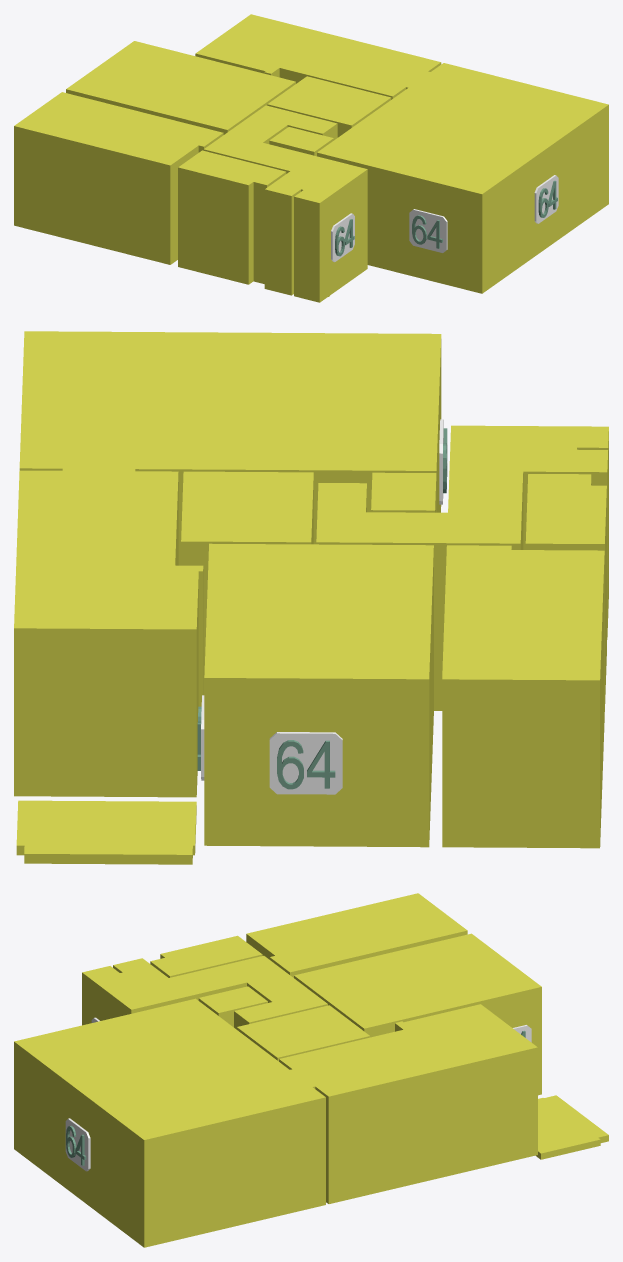
3 views of the same model, one above another, from view 1: azimuth 30°, elevation 25°; view 2: azimuth 150°, elevation 25°; view 3: azimuth 270°, elevation 25° (orthographic). The views are drawn at different scales.
Visible parts, largest first — view 1: g_7, g_1, g_3, g_0, g_2, g_6, g_4, g_5, g_11, g_17, g_23; view 2: g_0, g_7, g_6, g_1, g_3, g_8, g_4, g_2, g_20, g_5, g_19; view 3: g_7, g_6, g_0, g_3, g_1, g_4, g_8, g_2, g_5, g_17.
Boxes of the visible parts, bbox=[...] form: g_7: bbox=[317, 63, 608, 293]; g_1: bbox=[14, 92, 223, 264]; g_3: bbox=[203, 105, 367, 302]; g_0: bbox=[66, 41, 295, 134]; g_2: bbox=[178, 150, 286, 284]; g_6: bbox=[195, 14, 441, 99]; g_4: bbox=[267, 76, 391, 137]; g_5: bbox=[269, 127, 333, 156]; g_11: bbox=[409, 209, 447, 252]; g_17: bbox=[534, 175, 558, 223]; g_23: bbox=[331, 213, 354, 262]; g_0: bbox=[204, 543, 433, 847]; g_7: bbox=[19, 331, 441, 565]; g_6: bbox=[14, 469, 203, 797]; g_1: bbox=[442, 545, 604, 848]; g_3: bbox=[316, 425, 608, 710]; g_8: bbox=[16, 800, 196, 864]; g_4: bbox=[181, 471, 313, 695]; g_2: bbox=[525, 474, 606, 711]; g_20: bbox=[269, 732, 342, 794]; g_5: bbox=[371, 472, 436, 512]; g_19: bbox=[277, 740, 303, 789]; g_7: bbox=[14, 998, 325, 1247]; g_6: bbox=[279, 1004, 537, 1203]; g_0: bbox=[294, 933, 541, 1095]; g_3: bbox=[82, 955, 327, 1029]; g_1: bbox=[246, 893, 467, 977]; g_4: bbox=[237, 1005, 370, 1061]; g_8: bbox=[536, 1095, 608, 1159]; g_2: bbox=[150, 935, 262, 977]; g_5: bbox=[198, 986, 267, 1027]; g_17: bbox=[65, 1118, 90, 1171].
Bounding box in the file's own units: 12.67 × 2.74 × 12.9.
